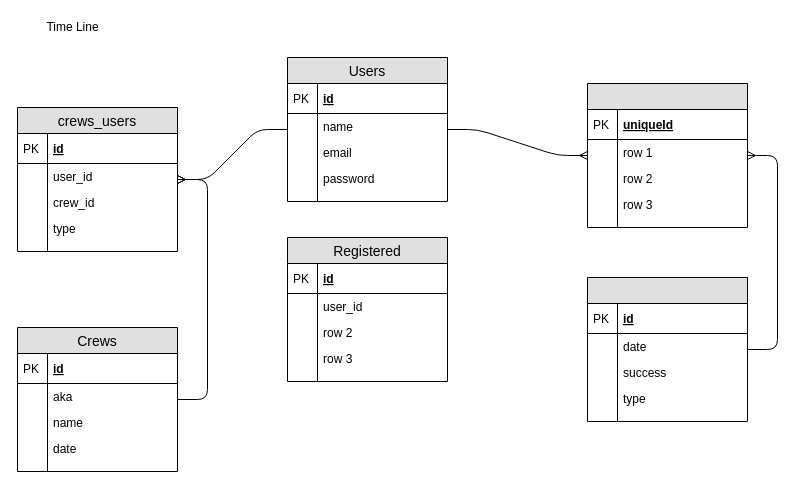
Some shapes in this 803 by 489 pixel diagram are drawn without their labels. Each missing label, with the box of its shape:
Dates: (586, 276, 748, 422)
Participants: (586, 82, 748, 228)
